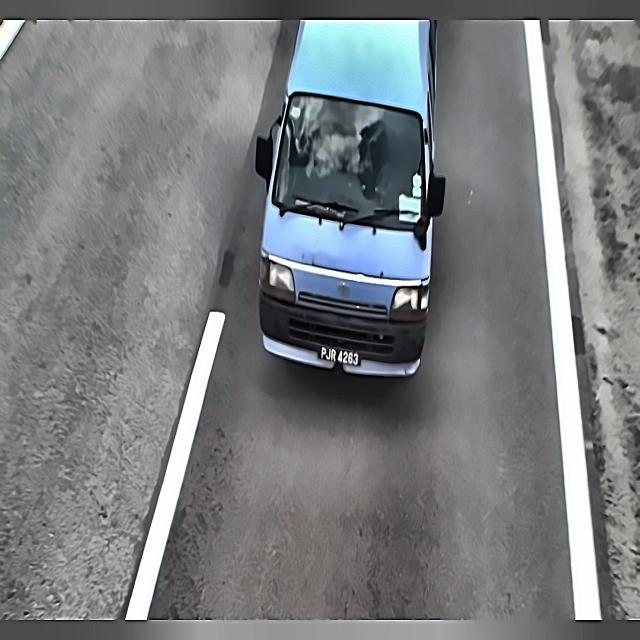car: (315, 336, 363, 374)
